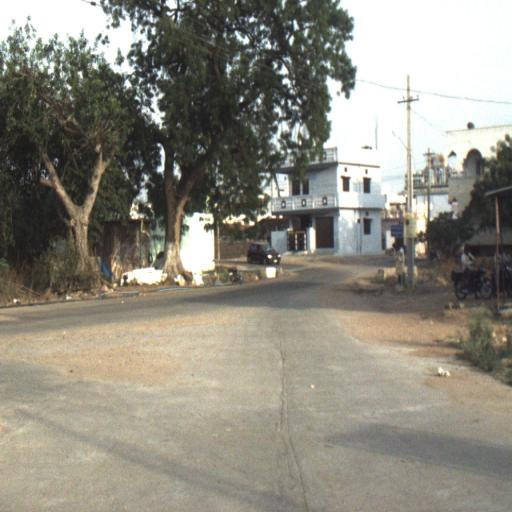street_light_0: (392, 130, 412, 165)
